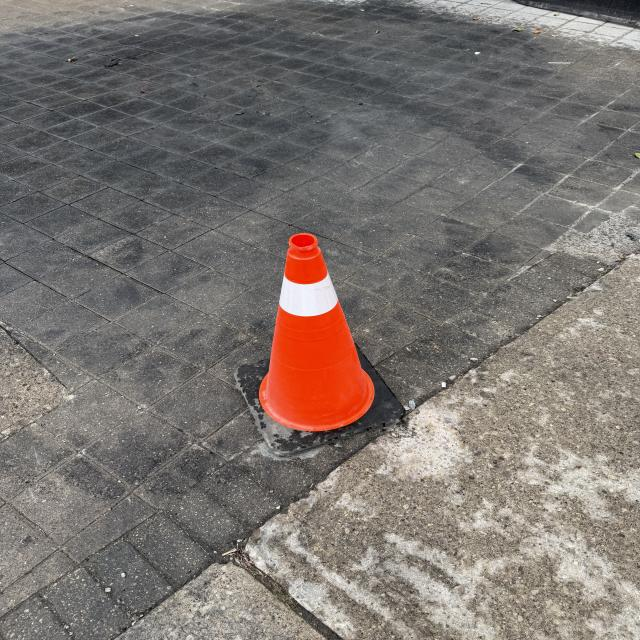Traffic Cone: (232, 232, 410, 456)
